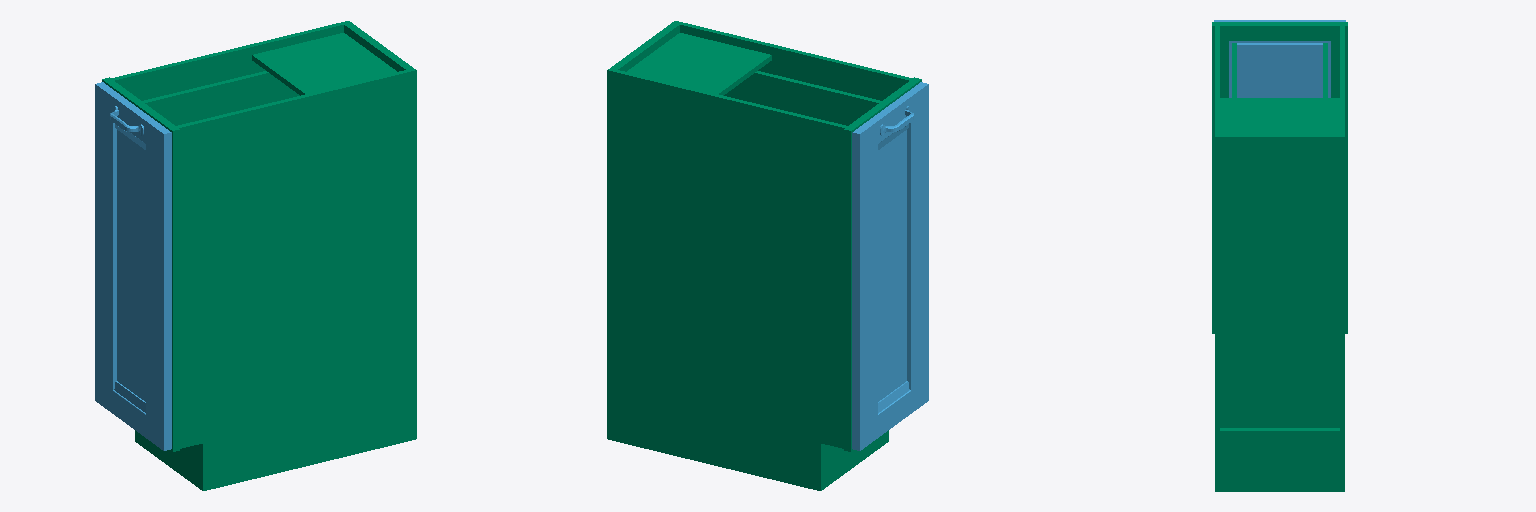
robot.urdf — partnet_315f29b2492f66a9c59350d819542ec7:
<?xml version="1.0" ?>
<robot name="partnet_315f29b2492f66a9c59350d819542ec7">
	<link name="base"/>
	<link name="link_0">
		<visual name="cabinet_door_surface-47">
			<origin xyz="-0.26409544268864543 -0.7752500176429749 -0.5433487398552702"/>
			<geometry>
				<mesh filename="textured_objs/original-45.obj"/>
			</geometry>
		</visual>
		<visual name="cabinet_door_surface-47">
			<origin xyz="-0.26409544268864543 -0.7752500176429749 -0.5433487398552702"/>
			<geometry>
				<mesh filename="textured_objs/original-42.obj"/>
			</geometry>
		</visual>
		<visual name="cabinet_door_surface-47">
			<origin xyz="-0.26409544268864543 -0.7752500176429749 -0.5433487398552702"/>
			<geometry>
				<mesh filename="textured_objs/original-44.obj"/>
			</geometry>
		</visual>
		<visual name="cabinet_door_surface-47">
			<origin xyz="-0.26409544268864543 -0.7752500176429749 -0.5433487398552702"/>
			<geometry>
				<mesh filename="textured_objs/original-48.obj"/>
			</geometry>
		</visual>
		<visual name="cabinet_door_surface-47">
			<origin xyz="-0.26409544268864543 -0.7752500176429749 -0.5433487398552702"/>
			<geometry>
				<mesh filename="textured_objs/original-43.obj"/>
			</geometry>
		</visual>
		<visual name="cabinet_door_surface-47">
			<origin xyz="-0.26409544268864543 -0.7752500176429749 -0.5433487398552702"/>
			<geometry>
				<mesh filename="textured_objs/original-29.obj"/>
			</geometry>
		</visual>
		<visual name="cabinet_door_surface-47">
			<origin xyz="-0.26409544268864543 -0.7752500176429749 -0.5433487398552702"/>
			<geometry>
				<mesh filename="textured_objs/original-47.obj"/>
			</geometry>
		</visual>
		<visual name="handle-48">
			<origin xyz="-0.26409544268864543 -0.7752500176429749 -0.5433487398552702"/>
			<geometry>
				<mesh filename="textured_objs/original-49.obj"/>
			</geometry>
		</visual>
		<collision>
			<origin xyz="-0.26409544268864543 -0.7752500176429749 -0.5433487398552702"/>
			<geometry>
				<mesh filename="textured_objs/original-45.obj"/>
			</geometry>
		</collision>
		<collision>
			<origin xyz="-0.26409544268864543 -0.7752500176429749 -0.5433487398552702"/>
			<geometry>
				<mesh filename="textured_objs/original-42.obj"/>
			</geometry>
		</collision>
		<collision>
			<origin xyz="-0.26409544268864543 -0.7752500176429749 -0.5433487398552702"/>
			<geometry>
				<mesh filename="textured_objs/original-44.obj"/>
			</geometry>
		</collision>
		<collision>
			<origin xyz="-0.26409544268864543 -0.7752500176429749 -0.5433487398552702"/>
			<geometry>
				<mesh filename="textured_objs/original-48.obj"/>
			</geometry>
		</collision>
		<collision>
			<origin xyz="-0.26409544268864543 -0.7752500176429749 -0.5433487398552702"/>
			<geometry>
				<mesh filename="textured_objs/original-43.obj"/>
			</geometry>
		</collision>
		<collision>
			<origin xyz="-0.26409544268864543 -0.7752500176429749 -0.5433487398552702"/>
			<geometry>
				<mesh filename="textured_objs/original-29.obj"/>
			</geometry>
		</collision>
		<collision>
			<origin xyz="-0.26409544268864543 -0.7752500176429749 -0.5433487398552702"/>
			<geometry>
				<mesh filename="textured_objs/original-47.obj"/>
			</geometry>
		</collision>
		<collision>
			<origin xyz="-0.26409544268864543 -0.7752500176429749 -0.5433487398552702"/>
			<geometry>
				<mesh filename="textured_objs/original-49.obj"/>
			</geometry>
		</collision>
	</link>
	<joint name="joint_0" type="revolute">
		<origin xyz="0.26409544268864543 0.7752500176429749 0.5433487398552702"/>
		<axis xyz="0 1 0"/>
		<child link="link_0"/>
		<parent link="link_1"/>
		<limit lower="0.0" upper="1.6587609210954108"/>
	</joint>
	<link name="link_1">
		<visual name="shelf-45">
			<origin xyz="0 0 0"/>
			<geometry>
				<mesh filename="textured_objs/original-38.obj"/>
			</geometry>
		</visual>
		<visual name="shelf-75">
			<origin xyz="0 0 0"/>
			<geometry>
				<mesh filename="textured_objs/original-34.obj"/>
			</geometry>
		</visual>
		<visual name="vertical_side_panel-54">
			<origin xyz="0 0 0"/>
			<geometry>
				<mesh filename="textured_objs/original-15.obj"/>
			</geometry>
		</visual>
		<visual name="vertical_side_panel-54">
			<origin xyz="0 0 0"/>
			<geometry>
				<mesh filename="textured_objs/original-14.obj"/>
			</geometry>
		</visual>
		<visual name="vertical_side_panel-55">
			<origin xyz="0 0 0"/>
			<geometry>
				<mesh filename="textured_objs/original-11.obj"/>
			</geometry>
		</visual>
		<visual name="vertical_side_panel-55">
			<origin xyz="0 0 0"/>
			<geometry>
				<mesh filename="textured_objs/original-10.obj"/>
			</geometry>
		</visual>
		<visual name="back_panel-56">
			<origin xyz="0 0 0"/>
			<geometry>
				<mesh filename="textured_objs/original-30.obj"/>
			</geometry>
		</visual>
		<visual name="back_panel-56">
			<origin xyz="0 0 0"/>
			<geometry>
				<mesh filename="textured_objs/original-5.obj"/>
			</geometry>
		</visual>
		<visual name="bottom_panel-57">
			<origin xyz="0 0 0"/>
			<geometry>
				<mesh filename="textured_objs/original-23.obj"/>
			</geometry>
		</visual>
		<visual name="bottom_panel-57">
			<origin xyz="0 0 0"/>
			<geometry>
				<mesh filename="textured_objs/original-2.obj"/>
			</geometry>
		</visual>
		<visual name="frame_horizontal_bar-65">
			<origin xyz="0 0 0"/>
			<geometry>
				<mesh filename="textured_objs/original-4.obj"/>
			</geometry>
		</visual>
		<visual name="frame_horizontal_bar-66">
			<origin xyz="0 0 0"/>
			<geometry>
				<mesh filename="textured_objs/original-19.obj"/>
			</geometry>
		</visual>
		<visual name="frame_horizontal_bar-67">
			<origin xyz="0 0 0"/>
			<geometry>
				<mesh filename="textured_objs/original-6.obj"/>
			</geometry>
		</visual>
		<visual name="frame_horizontal_bar-68">
			<origin xyz="0 0 0"/>
			<geometry>
				<mesh filename="textured_objs/original-39.obj"/>
			</geometry>
		</visual>
		<visual name="frame_horizontal_bar-69">
			<origin xyz="0 0 0"/>
			<geometry>
				<mesh filename="textured_objs/original-33.obj"/>
			</geometry>
		</visual>
		<visual name="frame_horizontal_bar-70">
			<origin xyz="0 0 0"/>
			<geometry>
				<mesh filename="textured_objs/original-37.obj"/>
			</geometry>
		</visual>
		<visual name="frame_horizontal_bar-71">
			<origin xyz="0 0 0"/>
			<geometry>
				<mesh filename="textured_objs/original-40.obj"/>
			</geometry>
		</visual>
		<visual name="frame_horizontal_bar-72">
			<origin xyz="0 0 0"/>
			<geometry>
				<mesh filename="textured_objs/original-32.obj"/>
			</geometry>
		</visual>
		<visual name="frame_horizontal_bar-73">
			<origin xyz="0 0 0"/>
			<geometry>
				<mesh filename="textured_objs/original-36.obj"/>
			</geometry>
		</visual>
		<visual name="frame_horizontal_bar-74">
			<origin xyz="0 0 0"/>
			<geometry>
				<mesh filename="textured_objs/original-22.obj"/>
			</geometry>
		</visual>
		<visual name="frame_vertical_bar-76">
			<origin xyz="0 0 0"/>
			<geometry>
				<mesh filename="textured_objs/original-3.obj"/>
			</geometry>
		</visual>
		<visual name="frame_vertical_bar-77">
			<origin xyz="0 0 0"/>
			<geometry>
				<mesh filename="textured_objs/original-24.obj"/>
			</geometry>
		</visual>
		<visual name="frame_vertical_bar-78">
			<origin xyz="0 0 0"/>
			<geometry>
				<mesh filename="textured_objs/original-27.obj"/>
			</geometry>
		</visual>
		<visual name="frame_vertical_bar-79">
			<origin xyz="0 0 0"/>
			<geometry>
				<mesh filename="textured_objs/original-26.obj"/>
			</geometry>
		</visual>
		<visual name="frame_vertical_bar-80">
			<origin xyz="0 0 0"/>
			<geometry>
				<mesh filename="textured_objs/original-25.obj"/>
			</geometry>
		</visual>
		<visual name="frame_horizontal_bar-81">
			<origin xyz="0 0 0"/>
			<geometry>
				<mesh filename="textured_objs/original-8.obj"/>
			</geometry>
		</visual>
		<visual name="frame_horizontal_bar-82">
			<origin xyz="0 0 0"/>
			<geometry>
				<mesh filename="textured_objs/original-28.obj"/>
			</geometry>
		</visual>
		<visual name="other_leaf-84">
			<origin xyz="0 0 0"/>
			<geometry>
				<mesh filename="textured_objs/original-50.obj"/>
			</geometry>
		</visual>
		<visual name="frame_vertical_bar-85">
			<origin xyz="0 0 0"/>
			<geometry>
				<mesh filename="textured_objs/original-7.obj"/>
			</geometry>
		</visual>
		<visual name="base_side_panel-50">
			<origin xyz="0 0 0"/>
			<geometry>
				<mesh filename="textured_objs/original-18.obj"/>
			</geometry>
		</visual>
		<visual name="base_side_panel-51">
			<origin xyz="0 0 0"/>
			<geometry>
				<mesh filename="textured_objs/original-16.obj"/>
			</geometry>
		</visual>
		<visual name="base_side_panel-52">
			<origin xyz="0 0 0"/>
			<geometry>
				<mesh filename="textured_objs/original-17.obj"/>
			</geometry>
		</visual>
		<visual name="base_side_panel-53">
			<origin xyz="0 0 0"/>
			<geometry>
				<mesh filename="textured_objs/original-12.obj"/>
			</geometry>
		</visual>
		<collision>
			<origin xyz="0 0 0"/>
			<geometry>
				<mesh filename="textured_objs/original-38.obj"/>
			</geometry>
		</collision>
		<collision>
			<origin xyz="0 0 0"/>
			<geometry>
				<mesh filename="textured_objs/original-34.obj"/>
			</geometry>
		</collision>
		<collision>
			<origin xyz="0 0 0"/>
			<geometry>
				<mesh filename="textured_objs/original-15.obj"/>
			</geometry>
		</collision>
		<collision>
			<origin xyz="0 0 0"/>
			<geometry>
				<mesh filename="textured_objs/original-14.obj"/>
			</geometry>
		</collision>
		<collision>
			<origin xyz="0 0 0"/>
			<geometry>
				<mesh filename="textured_objs/original-11.obj"/>
			</geometry>
		</collision>
		<collision>
			<origin xyz="0 0 0"/>
			<geometry>
				<mesh filename="textured_objs/original-10.obj"/>
			</geometry>
		</collision>
		<collision>
			<origin xyz="0 0 0"/>
			<geometry>
				<mesh filename="textured_objs/original-30.obj"/>
			</geometry>
		</collision>
		<collision>
			<origin xyz="0 0 0"/>
			<geometry>
				<mesh filename="textured_objs/original-5.obj"/>
			</geometry>
		</collision>
		<collision>
			<origin xyz="0 0 0"/>
			<geometry>
				<mesh filename="textured_objs/original-23.obj"/>
			</geometry>
		</collision>
		<collision>
			<origin xyz="0 0 0"/>
			<geometry>
				<mesh filename="textured_objs/original-2.obj"/>
			</geometry>
		</collision>
		<collision>
			<origin xyz="0 0 0"/>
			<geometry>
				<mesh filename="textured_objs/original-4.obj"/>
			</geometry>
		</collision>
		<collision>
			<origin xyz="0 0 0"/>
			<geometry>
				<mesh filename="textured_objs/original-19.obj"/>
			</geometry>
		</collision>
		<collision>
			<origin xyz="0 0 0"/>
			<geometry>
				<mesh filename="textured_objs/original-6.obj"/>
			</geometry>
		</collision>
		<collision>
			<origin xyz="0 0 0"/>
			<geometry>
				<mesh filename="textured_objs/original-39.obj"/>
			</geometry>
		</collision>
		<collision>
			<origin xyz="0 0 0"/>
			<geometry>
				<mesh filename="textured_objs/original-33.obj"/>
			</geometry>
		</collision>
		<collision>
			<origin xyz="0 0 0"/>
			<geometry>
				<mesh filename="textured_objs/original-37.obj"/>
			</geometry>
		</collision>
		<collision>
			<origin xyz="0 0 0"/>
			<geometry>
				<mesh filename="textured_objs/original-40.obj"/>
			</geometry>
		</collision>
		<collision>
			<origin xyz="0 0 0"/>
			<geometry>
				<mesh filename="textured_objs/original-32.obj"/>
			</geometry>
		</collision>
		<collision>
			<origin xyz="0 0 0"/>
			<geometry>
				<mesh filename="textured_objs/original-36.obj"/>
			</geometry>
		</collision>
		<collision>
			<origin xyz="0 0 0"/>
			<geometry>
				<mesh filename="textured_objs/original-22.obj"/>
			</geometry>
		</collision>
		<collision>
			<origin xyz="0 0 0"/>
			<geometry>
				<mesh filename="textured_objs/original-3.obj"/>
			</geometry>
		</collision>
		<collision>
			<origin xyz="0 0 0"/>
			<geometry>
				<mesh filename="textured_objs/original-24.obj"/>
			</geometry>
		</collision>
		<collision>
			<origin xyz="0 0 0"/>
			<geometry>
				<mesh filename="textured_objs/original-27.obj"/>
			</geometry>
		</collision>
		<collision>
			<origin xyz="0 0 0"/>
			<geometry>
				<mesh filename="textured_objs/original-26.obj"/>
			</geometry>
		</collision>
		<collision>
			<origin xyz="0 0 0"/>
			<geometry>
				<mesh filename="textured_objs/original-25.obj"/>
			</geometry>
		</collision>
		<collision>
			<origin xyz="0 0 0"/>
			<geometry>
				<mesh filename="textured_objs/original-8.obj"/>
			</geometry>
		</collision>
		<collision>
			<origin xyz="0 0 0"/>
			<geometry>
				<mesh filename="textured_objs/original-28.obj"/>
			</geometry>
		</collision>
		<collision>
			<origin xyz="0 0 0"/>
			<geometry>
				<mesh filename="textured_objs/original-50.obj"/>
			</geometry>
		</collision>
		<collision>
			<origin xyz="0 0 0"/>
			<geometry>
				<mesh filename="textured_objs/original-7.obj"/>
			</geometry>
		</collision>
		<collision>
			<origin xyz="0 0 0"/>
			<geometry>
				<mesh filename="textured_objs/original-18.obj"/>
			</geometry>
		</collision>
		<collision>
			<origin xyz="0 0 0"/>
			<geometry>
				<mesh filename="textured_objs/original-16.obj"/>
			</geometry>
		</collision>
		<collision>
			<origin xyz="0 0 0"/>
			<geometry>
				<mesh filename="textured_objs/original-17.obj"/>
			</geometry>
		</collision>
		<collision>
			<origin xyz="0 0 0"/>
			<geometry>
				<mesh filename="textured_objs/original-12.obj"/>
			</geometry>
		</collision>
	</link>
	<joint name="joint_1" type="fixed">
		<origin rpy="1.570796326794897 0 -1.570796326794897" xyz="0 0 0"/>
		<child link="link_1"/>
		<parent link="base"/>
	</joint>
</robot>

--- What the picture shows (computed from the rendered views, not written in the file) ---
Views: 3 orthographic renders of the robot side by side, from view 1: azimuth 30°, elevation 25°; view 2: azimuth 150°, elevation 25°; view 3: azimuth 270°, elevation 25°.
Model partnet_315f29b2492f66a9c59350d819542ec7 with 3 links and 2 joints (1 revolute, 1 fixed), rooted at base, posed all joints at 0.
Visible links, largest first — view 1: link_1, link_0; view 2: link_1, link_0; view 3: link_1, link_0.
Boxes of the visible links, bbox=[...] form: link_1: bbox=[102, 21, 416, 490]; link_0: bbox=[95, 82, 171, 450]; link_1: bbox=[607, 21, 921, 490]; link_0: bbox=[852, 82, 928, 450]; link_1: bbox=[1212, 22, 1347, 491]; link_0: bbox=[1214, 20, 1345, 97].
Size in the robot's own frame: 1.19 by 0.5531 by 1.59 metres.
Meshes: 41 distinct files referenced, 41 mesh visuals loaded (41 OBJ).
